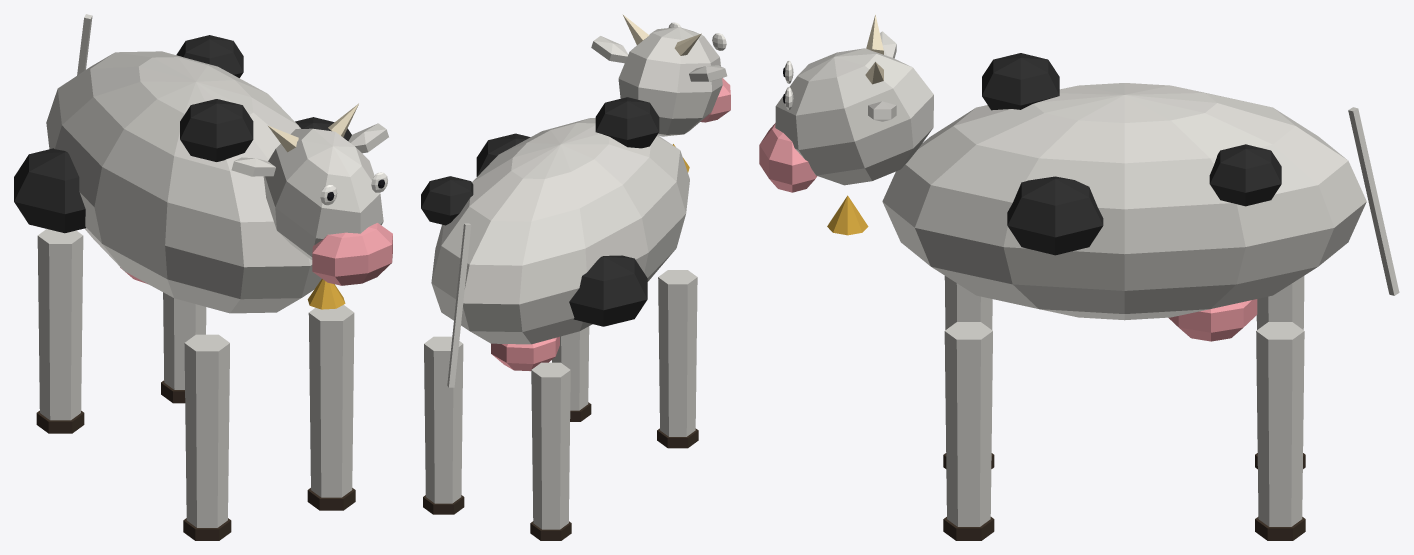
Rendered from farm_cow.glb.
3 renders of one model, left to right at view 1: azimuth 30°, elevation 25°; view 2: azimuth 150°, elevation 25°; view 3: azimuth 270°, elevation 25°, orthographic. The views are drawn at different scales.
Visible parts, largest first — view 1: body_cow_white, legs_cow_white, head_cow_white, patches_cow_patch, head_cow_nose, legs_cow_hoof, bell_cow_bell, tail_cow_white, face_white; view 2: body_cow_white, legs_cow_white, patches_cow_patch, head_cow_white, legs_cow_hoof, udder_farm_pink, tail_cow_white, head_cow_nose; view 3: body_cow_white, legs_cow_white, head_cow_white, patches_cow_patch, head_cow_nose, udder_farm_pink, tail_cow_white, legs_cow_hoof, bell_cow_bell.
Boxes of the visible parts, x1=… form: body_cow_white: x1=46, y1=51, x2=321, y2=313; legs_cow_white: x1=37, y1=229, x2=354, y2=527; head_cow_white: x1=231, y1=123, x2=388, y2=259; patches_cow_patch: x1=14, y1=35, x2=351, y2=233; head_cow_nose: x1=312, y1=223, x2=392, y2=285; legs_cow_hoof: x1=36, y1=380, x2=355, y2=540; bell_cow_bell: x1=307, y1=279, x2=345, y2=309; tail_cow_white: x1=77, y1=14, x2=92, y2=75; face_white: x1=320, y1=172, x2=387, y2=205; body_cow_white: x1=431, y1=118, x2=689, y2=344; legs_cow_white: x1=424, y1=270, x2=697, y2=529; patches_cow_patch: x1=421, y1=97, x2=659, y2=326; head_cow_white: x1=591, y1=27, x2=727, y2=136; legs_cow_hoof: x1=423, y1=402, x2=698, y2=540; udder_farm_pink: x1=491, y1=336, x2=559, y2=371; tail_cow_white: x1=447, y1=223, x2=471, y2=387; head_cow_nose: x1=700, y1=78, x2=730, y2=122; body_cow_white: x1=882, y1=83, x2=1366, y2=320; legs_cow_white: x1=944, y1=276, x2=1304, y2=526; head_cow_white: x1=775, y1=31, x2=933, y2=185; patches_cow_patch: x1=982, y1=53, x2=1281, y2=255; head_cow_nose: x1=759, y1=123, x2=817, y2=192; udder_farm_pink: x1=1168, y1=299, x2=1257, y2=341; tail_cow_white: x1=1348, y1=107, x2=1399, y2=295; legs_cow_hoof: x1=943, y1=453, x2=1305, y2=540; bell_cow_bell: x1=827, y1=195, x2=868, y2=235.
Size of the model in its own units: 0.96 by 1.47 by 1.85.
